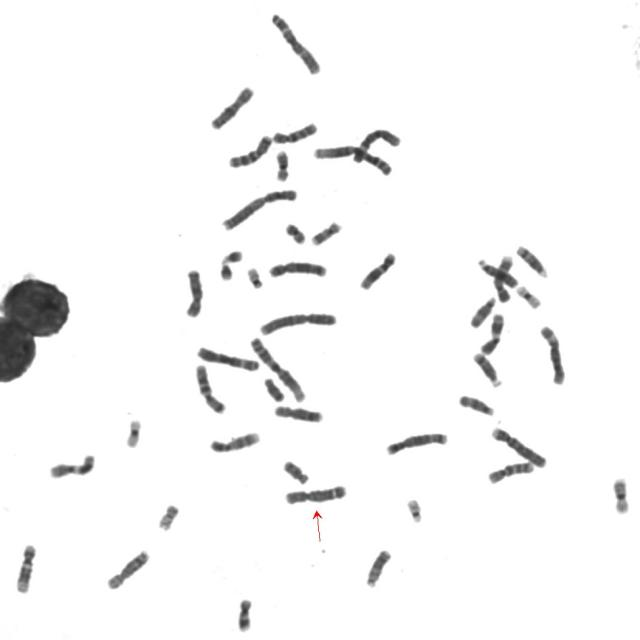A1: (247, 332, 309, 403), (310, 139, 396, 177)
A2: (218, 184, 300, 232), (256, 307, 340, 336)
A3: (268, 8, 324, 75), (193, 342, 262, 372)
B4: (488, 422, 549, 469), (266, 262, 330, 282)
B5: (383, 428, 451, 457), (282, 480, 349, 506)
C10: (484, 456, 538, 486), (270, 118, 320, 145)
C11: (46, 449, 98, 480), (477, 308, 508, 356)
C12: (356, 247, 399, 291), (12, 539, 38, 595)
C6: (349, 124, 403, 164), (536, 321, 569, 386)
C7: (191, 360, 229, 415), (225, 130, 275, 170)
C8: (103, 545, 153, 591), (270, 399, 326, 424)
C9: (206, 427, 263, 454), (491, 252, 516, 304)
D13: (474, 253, 521, 289), (363, 545, 394, 589)
D14: (513, 240, 550, 279), (470, 348, 505, 388)
D15: (467, 292, 499, 330), (456, 390, 498, 417)
E16: (610, 472, 633, 516), (272, 146, 292, 182)
E17: (308, 217, 344, 247), (234, 594, 255, 634)
E18: (280, 456, 312, 486), (261, 373, 287, 403)
F19: (513, 281, 544, 310), (122, 414, 144, 450)
F20: (155, 499, 182, 532), (282, 218, 308, 246)
G21: (218, 246, 246, 266), (217, 259, 235, 281)
G22: (403, 493, 425, 524), (244, 263, 266, 290)
X: (207, 81, 257, 131), (181, 264, 206, 319)
